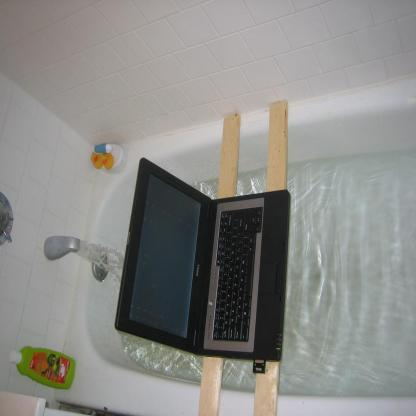board: (114, 155, 292, 364), (9, 344, 77, 392)
